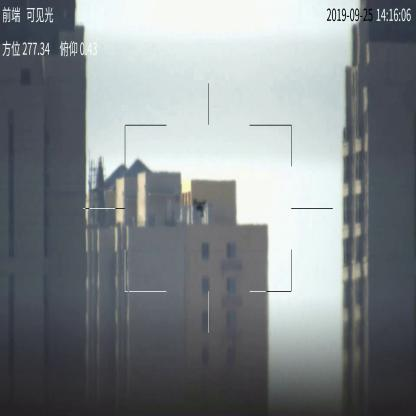uav: (192, 197, 207, 218)
